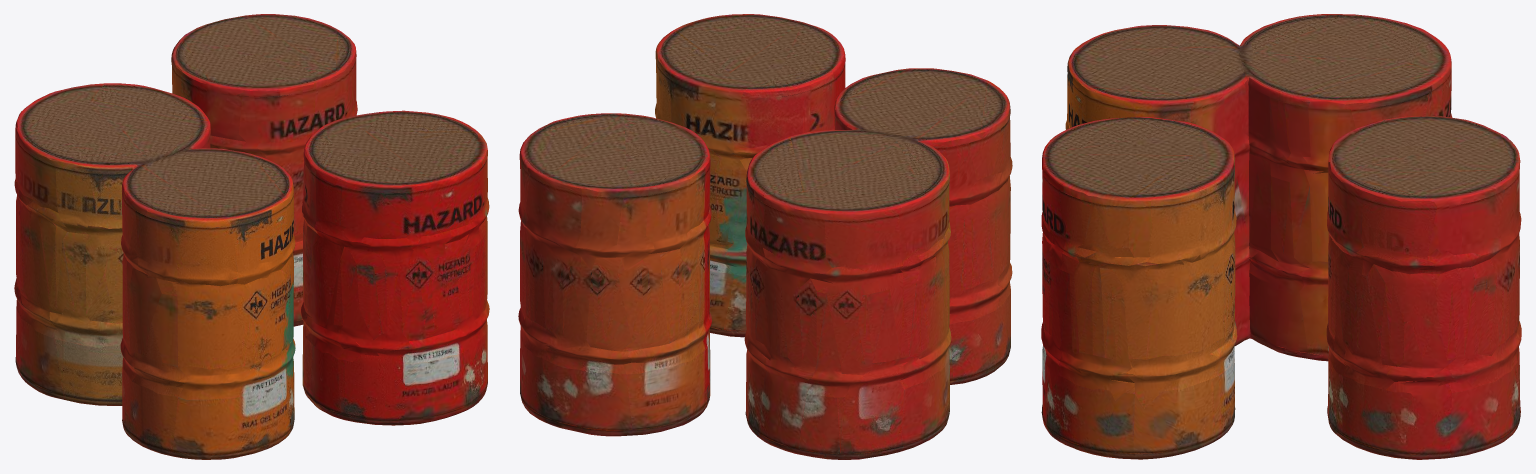
Rendered from barrels.glb.
The picture shows the model from 3 angles, left to right: view 1: azimuth 30°, elevation 25°; view 2: azimuth 150°, elevation 25°; view 3: azimuth 270°, elevation 25°; orthographic projection. The views are drawn at different scales.
Parts seen in each view (by area): view 1: Mesh_0; view 2: Mesh_0; view 3: Mesh_0.
Boxes of the visible parts, x1,y1,x2,y2 form: Mesh_0: [14, 14, 489, 459]; Mesh_0: [518, 14, 1012, 459]; Mesh_0: [1041, 14, 1521, 459].
Size of the model in its own units: 1.77 by 1.15 by 1.9.
1 material, 1 textured.
